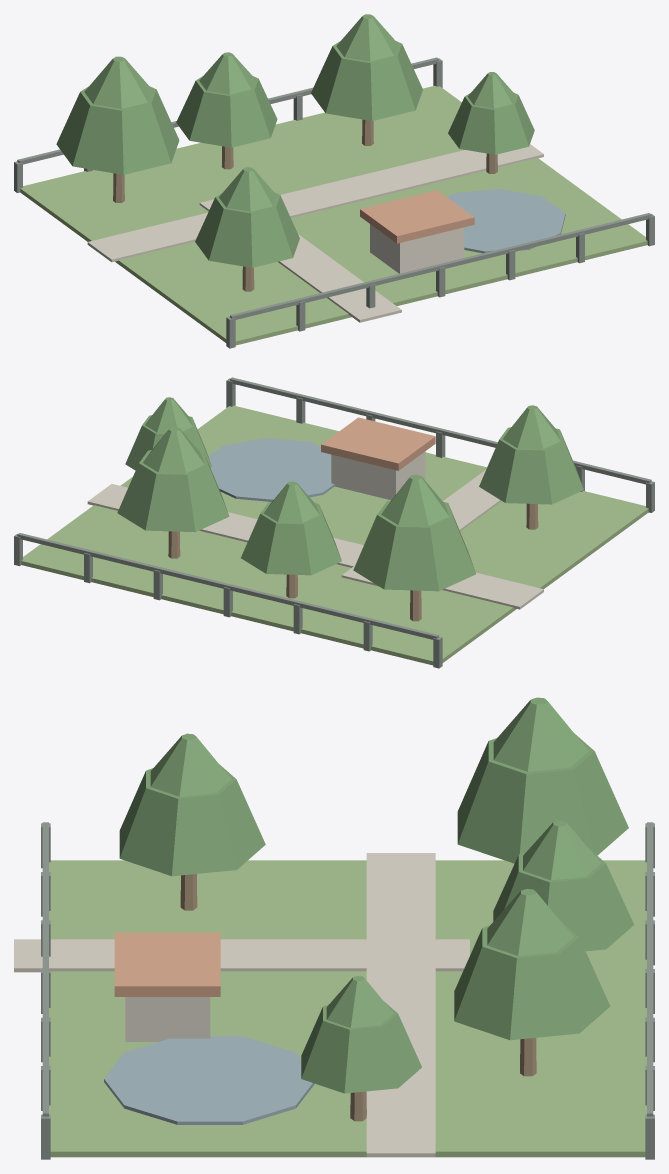
The model's file is plc_park.glb.
3 views of the same model, one above another, from view 1: azimuth 30°, elevation 25°; view 2: azimuth 150°, elevation 25°; view 3: azimuth 270°, elevation 25° (orthographic). The views are drawn at different scales.
Parts seen in each view (by area): view 1: plc_park; view 2: plc_park; view 3: plc_park.
Boxes of the visible parts, box(x1,y1,x2,y2) form: plc_park: box(14, 14, 654, 348); plc_park: box(14, 377, 654, 668); plc_park: box(14, 697, 654, 1159).
Size of the model in its own units: 2.28 by 0.7344 by 2.06.
